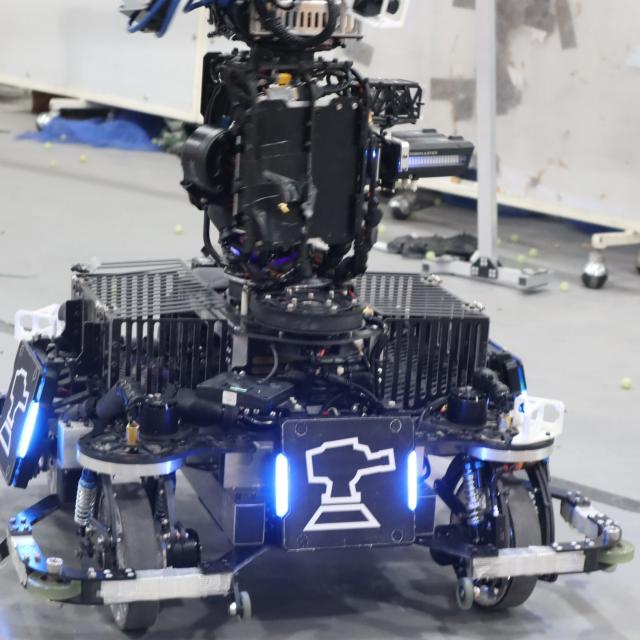Bs: (272, 410, 418, 551), (0, 340, 56, 491)
